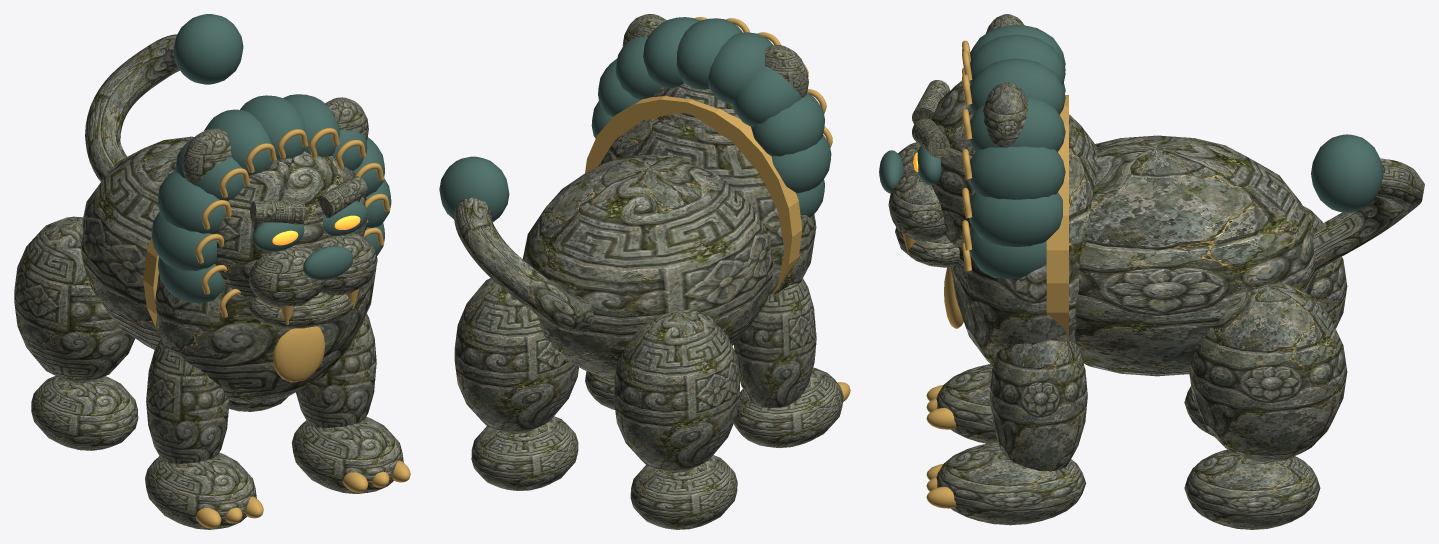
The model's file is boss.glb.
3 renders of one model, left to right at view 1: azimuth 30°, elevation 25°; view 2: azimuth 150°, elevation 25°; view 3: azimuth 270°, elevation 25°, orthographic. The views are drawn at different scales.
Visible parts, largest first — view 1: Haunch, Breast, Lion barrel, Lion skull, Foreleg, Rear paw, Paw.001, Paw, Lion tail, Foreleg.001, Tail tuft, Muzzle lobe (+21 smaller); view 2: Lion barrel, Haunch, Haunch.001, Breast, Foreleg, Collar, Lion tail, Rear paw, Rear paw.001, Paw, Tail tuft, Mane curl.013 (+12 smaller); view 3: Lion barrel, Haunch.001, Foreleg.001, Breast, Paw.001, Rear paw.001, Lion tail, Mane curl.003, Tail tuft, Mane curl.004, Lion skull, Paw (+15 smaller).
Boxes of the visible parts, box(x1,y1,x2,y2) form: Haunch: box(14, 216, 135, 383); Breast: box(155, 268, 376, 403); Lion barrel: box(81, 136, 194, 349); Lion skull: box(215, 151, 368, 298); Foreleg: box(146, 338, 229, 463); Rear paw: box(31, 376, 138, 450); Paw.001: box(291, 416, 403, 493); Paw: box(145, 452, 256, 529); Lion tail: box(85, 34, 179, 181); Foreleg.001: box(296, 314, 376, 427); Tail tuft: box(173, 14, 243, 84); Muzzle lobe: box(248, 247, 324, 307); Lion barrel: box(522, 155, 773, 379); Haunch: box(613, 309, 739, 472); Haunch.001: box(454, 278, 578, 434); Breast: box(599, 119, 816, 295); Foreleg: box(734, 278, 816, 408); Collar: box(585, 95, 802, 294); Lion tail: box(454, 197, 594, 333); Rear paw: box(630, 455, 737, 529); Rear paw.001: box(471, 416, 578, 490); Paw: box(734, 367, 843, 447); Tail tuft: box(439, 156, 509, 222); Mane curl.013: box(751, 93, 824, 156); Lion barrel: box(1074, 135, 1316, 376); Haunch.001: box(1189, 282, 1347, 462); Foreleg.001: box(989, 340, 1087, 471); Breast: box(950, 114, 1097, 365); Paw.001: box(936, 442, 1086, 525); Rear paw.001: box(1184, 449, 1320, 529); Lion tail: box(1313, 158, 1424, 271); Mane curl.003: box(969, 146, 1065, 199); Tail tuft: box(1311, 134, 1383, 212); Mane curl.004: box(969, 192, 1062, 246); Lion skull: box(931, 81, 1074, 248); Paw: box(936, 364, 997, 443).
Size of the model in its own units: 2.14 by 3.08 by 3.45.
Materials: 4 (1 with a texture image).
